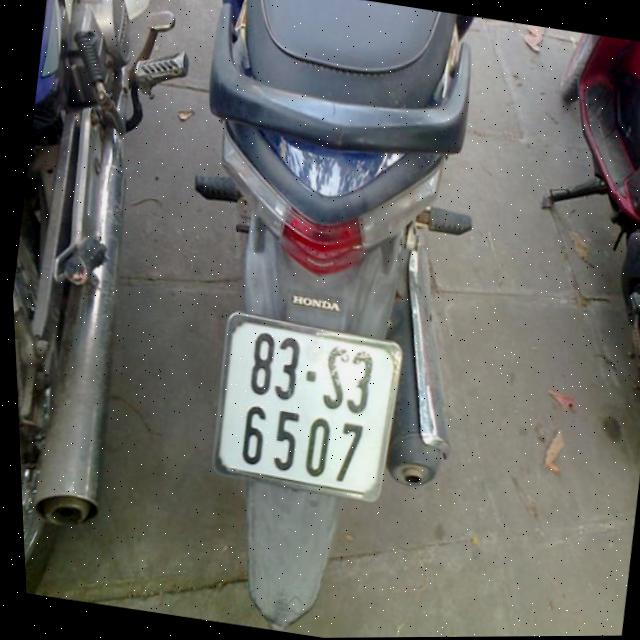motorcycle: (109, 0, 538, 639), (0, 0, 229, 609)
plate: (196, 302, 414, 509)
